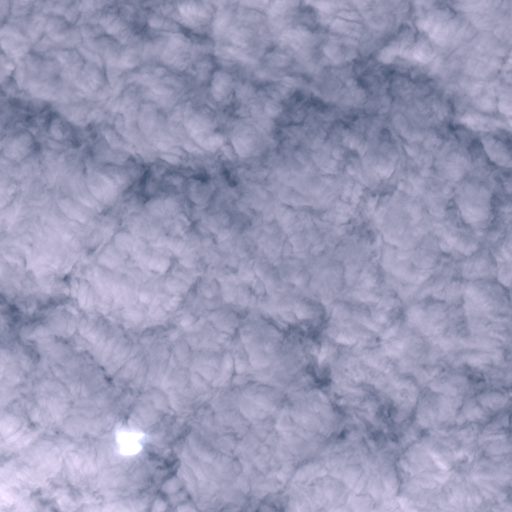Iceberg: (116, 431, 144, 454)
